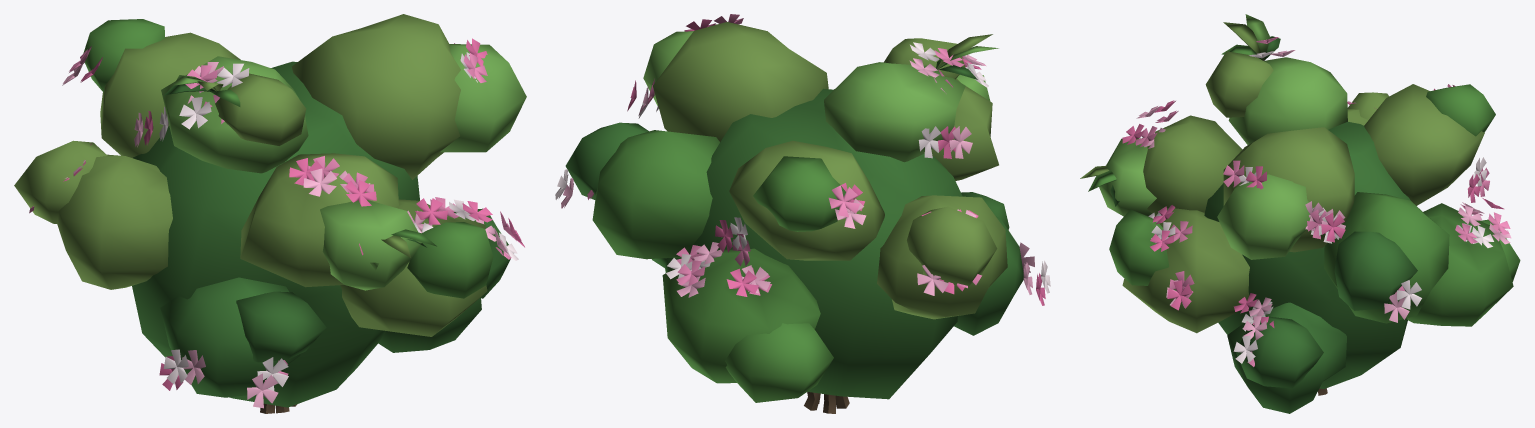
File: bushFlowering.glb
3 renders of one model, left to right at view 1: azimuth 30°, elevation 25°; view 2: azimuth 150°, elevation 25°; view 3: azimuth 270°, elevation 25°, orthographic. The views are drawn at different scales.
Parts seen in each view (by area): view 1: bushFlowering; view 2: bushFlowering; view 3: bushFlowering.
Boxes of the visible parts, x1,y1,x2,y2 form: bushFlowering: (14, 14, 526, 413); bushFlowering: (555, 14, 1050, 413); bushFlowering: (1080, 14, 1520, 413).
Size of the model in its own units: 1.21 by 1.02 by 1.27.
